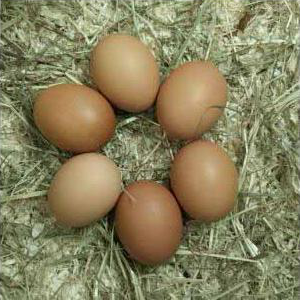egg: (114, 180, 184, 267), (155, 61, 229, 141), (32, 84, 116, 153), (48, 153, 123, 229), (90, 34, 160, 114), (169, 141, 238, 221)
